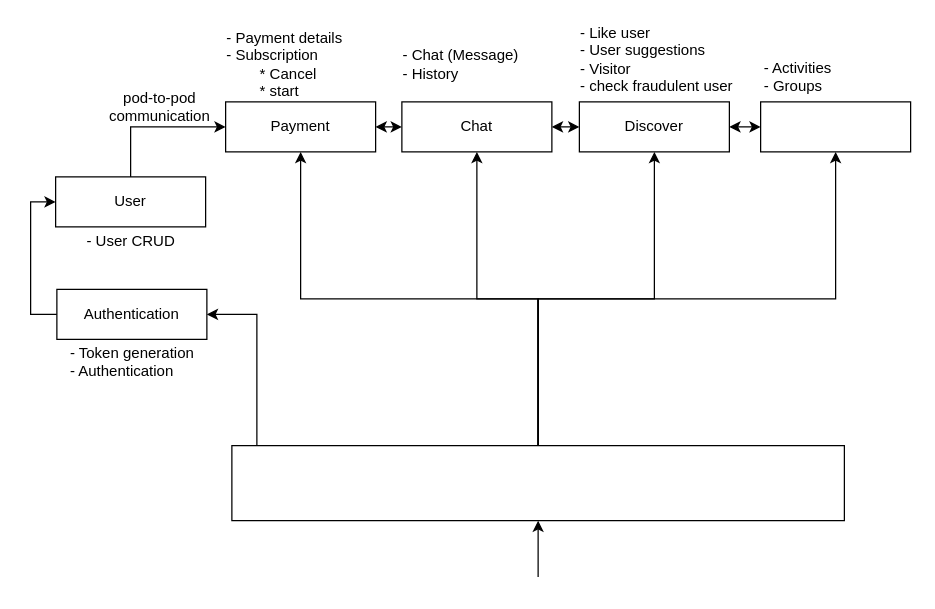
Some shapes in this 935 by 609 pixel diagram are drawn without their labels. Each missing label, with the centre of its shape:
API Gateway: (537,482)
Meet: (835,126)
